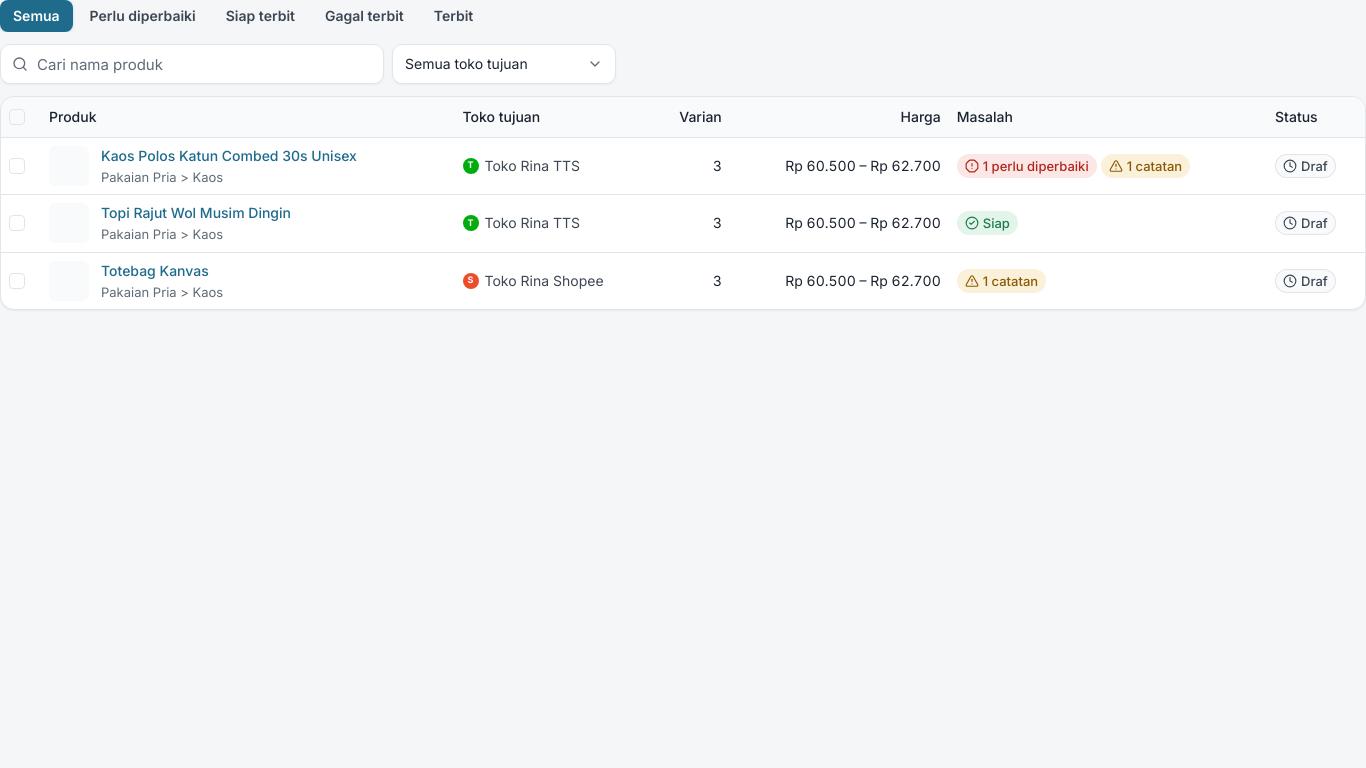
Test case: DraftsView › deletes drafts after asking
What coordinates should you click on to do the following:
click the checkbox named "Pilih Kaos Polos Katun Combed 30s Unisex"
I would click on:
 (17, 166)
Its box is [9,158,25,174].
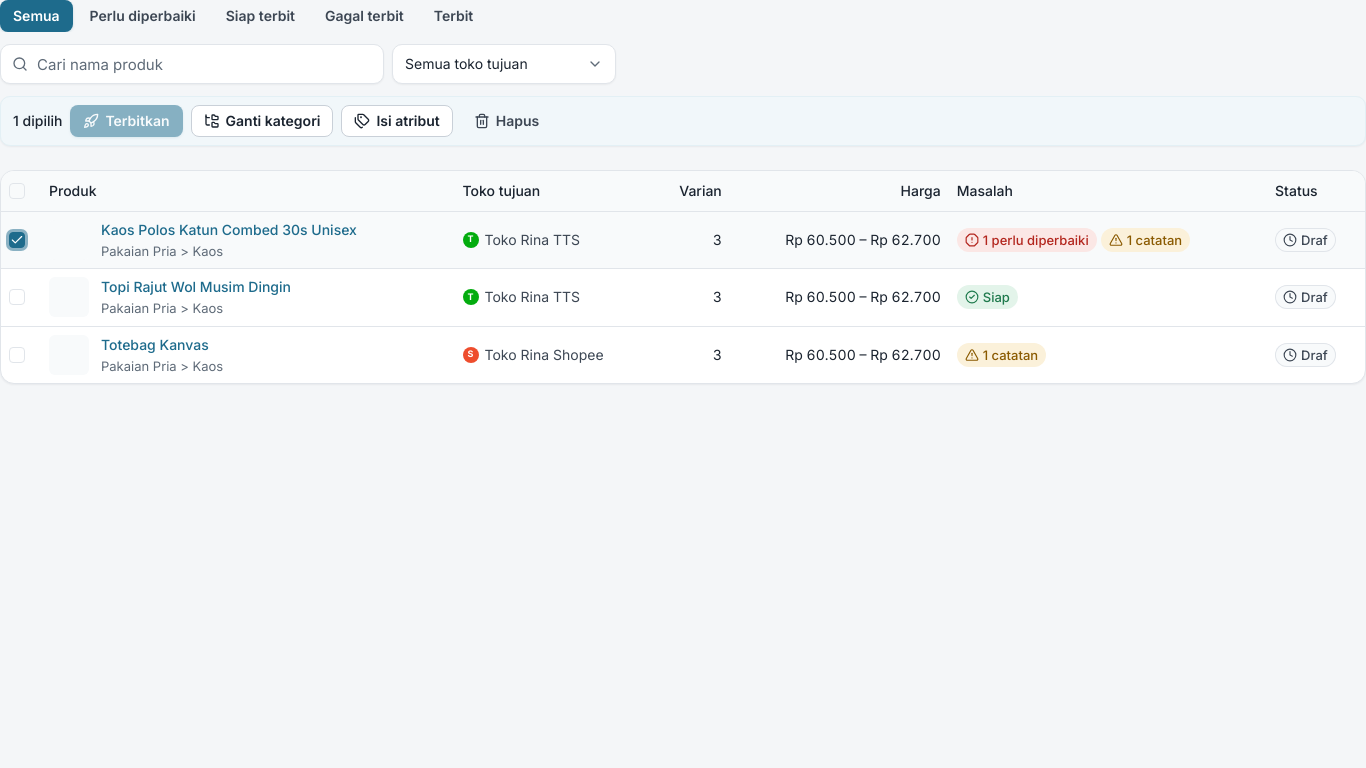
What coordinates should you click on to do the following:
click the checkbox named "Pilih Topi Rajut Wol Musim Dingin"
I would click on:
 (17, 297)
Its box is [9,289,25,305].
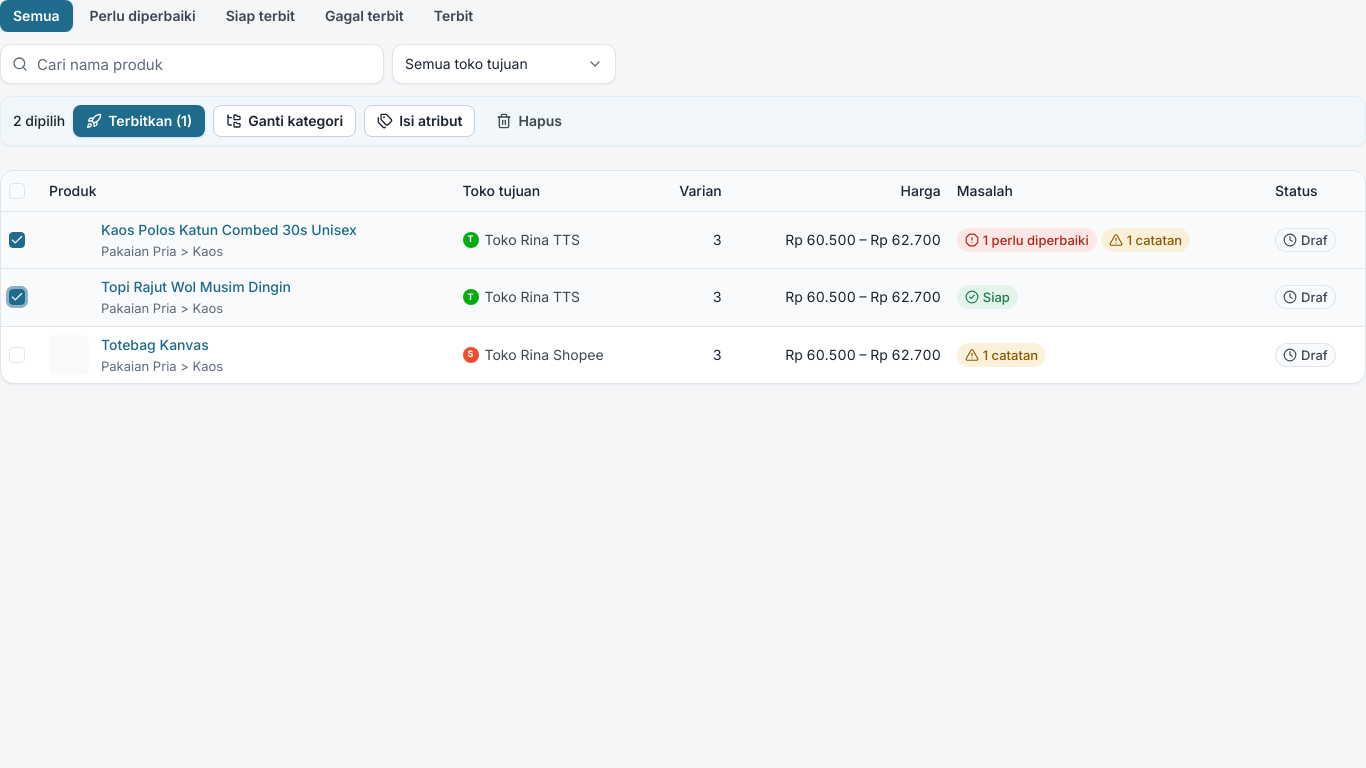
What coordinates should you click on to do the following:
click the button "Hapus"
I would click on:
 (529, 121)
Its box is [484,105,575,137].
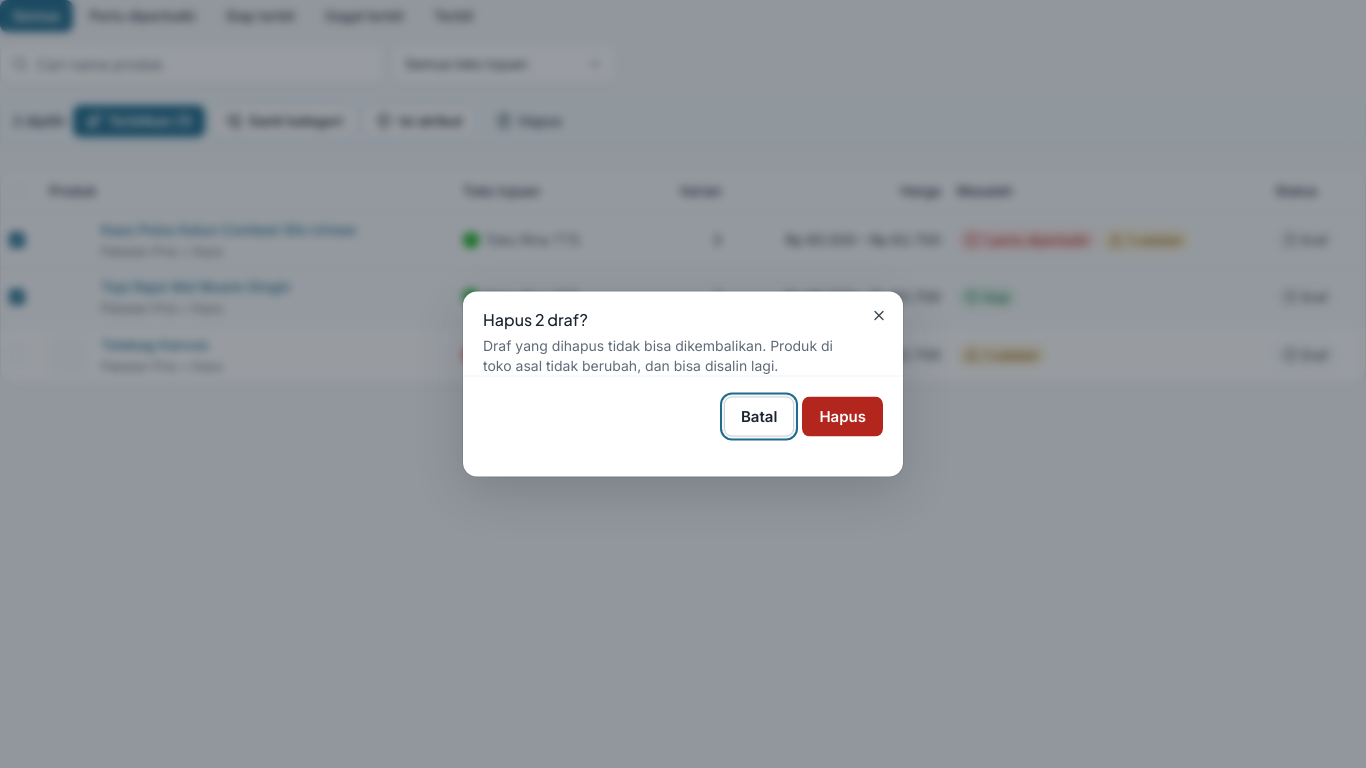
Check: the heading "Hapus 2 draf?" is shown, box [483,308,588,330]
What coordinates should you click on to do the following:
click the button "Hapus"
I would click on:
 (843, 416)
Its box is [802,396,883,436].
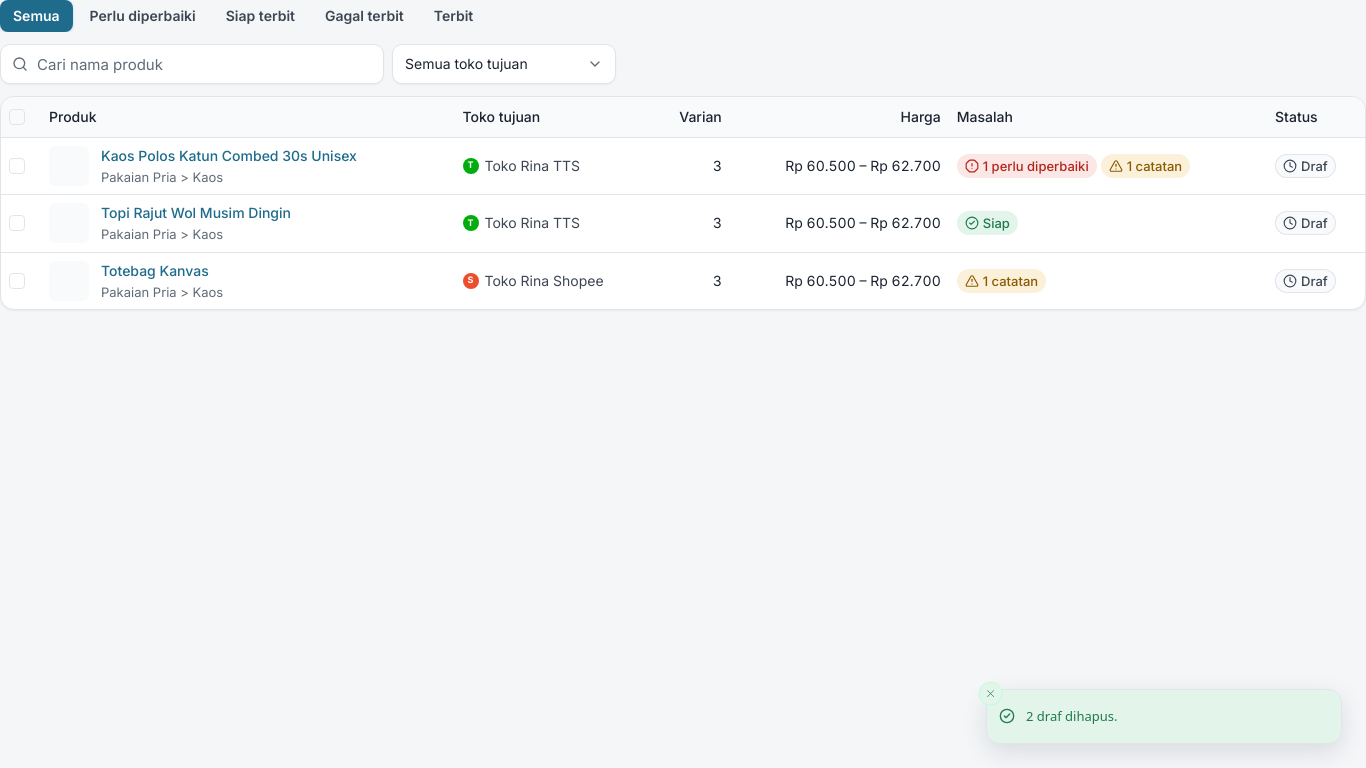
Check: the text "2 draf dihapus." is shown, box [1026,706,1118,727]
